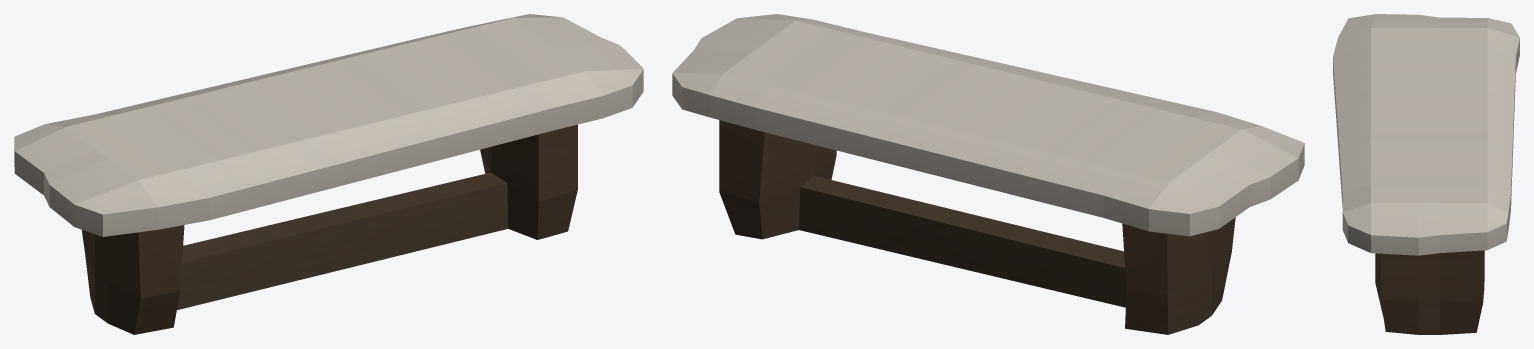
The model's file is Wood_Bench_A_Snow.obj.
3 renders of one model, left to right at view 1: azimuth 30°, elevation 25°; view 2: azimuth 150°, elevation 25°; view 3: azimuth 270°, elevation 25°, orthographic. The views are drawn at different scales.
Parts seen in each view (by area): view 1: Wood_Bench_A_Snow; view 2: Wood_Bench_A_Snow; view 3: Wood_Bench_A_Snow.
Boxes of the visible parts, left/top/right/bottom form: Wood_Bench_A_Snow: left=14, top=14, right=643, bottom=334; Wood_Bench_A_Snow: left=672, top=14, right=1304, bottom=334; Wood_Bench_A_Snow: left=1333, top=14, right=1519, bottom=334.
Bounding box in the file's own units: 1.5 × 0.4138 × 0.5307.
